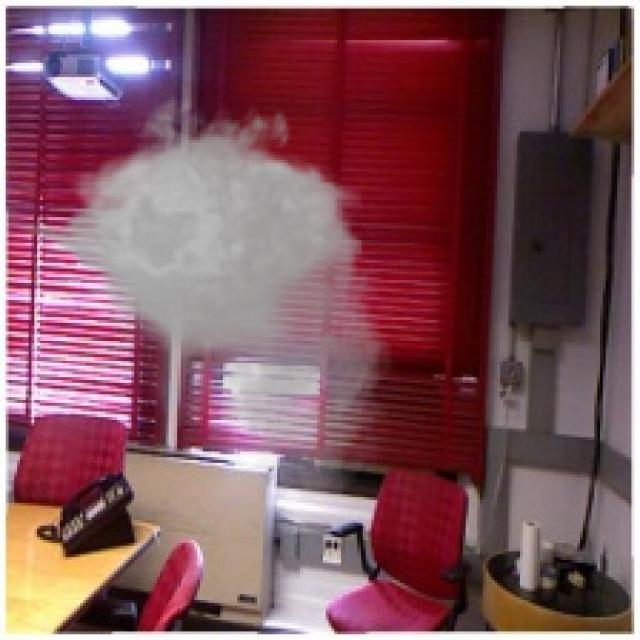smoke: (8, 83, 403, 508)
